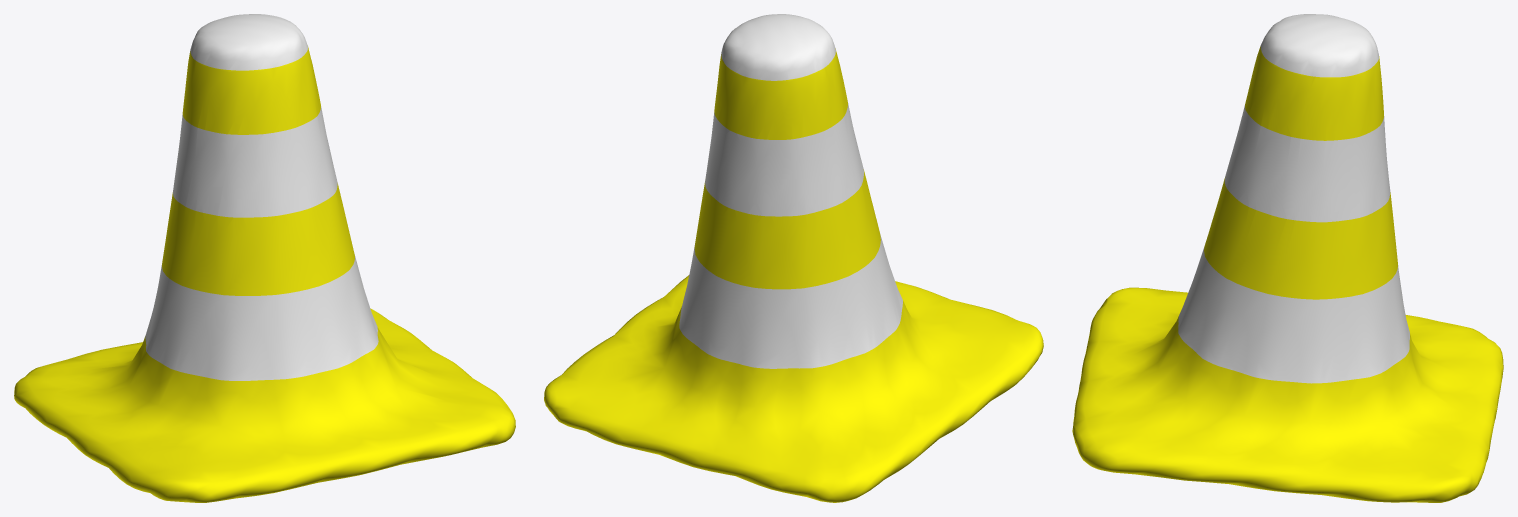
The model's file is VLCHat.fbx.
3 views of the same model, side by side, from view 1: azimuth 30°, elevation 25°; view 2: azimuth 150°, elevation 25°; view 3: azimuth 270°, elevation 25° (orthographic). The views are drawn at different scales.
Visible parts, largest first — view 1: VLCHat; view 2: VLCHat; view 3: VLCHat.
Boxes of the visible parts, left/top/right/bottom form: VLCHat: left=14, top=14, right=515, bottom=502; VLCHat: left=544, top=14, right=1043, bottom=502; VLCHat: left=1072, top=14, right=1503, bottom=502.
Size of the model in its own units: 546 by 556 by 544.
